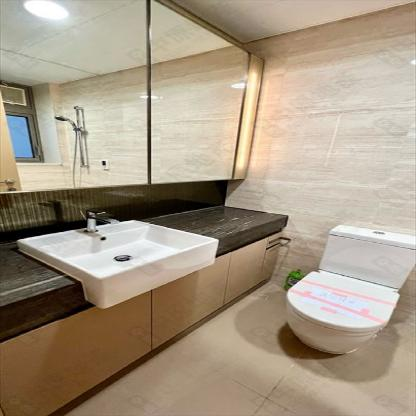Faucet: (82, 204, 123, 233)
Toilet: (280, 222, 415, 354)
Toilet Sink: (13, 218, 218, 307)
